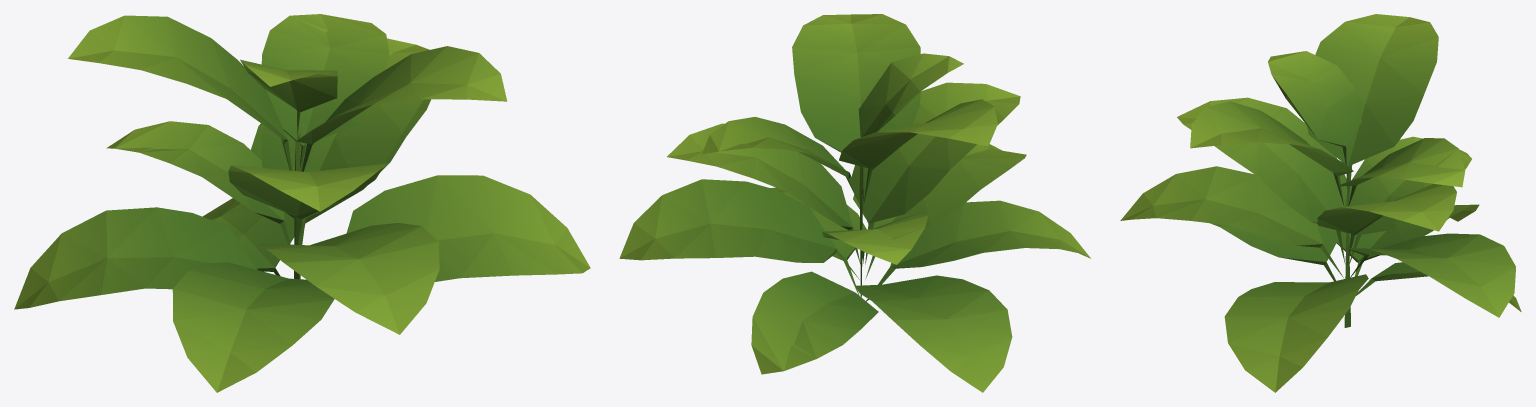
File: Plant_02.fbx
The picture shows the model from 3 angles, left to right: view 1: azimuth 30°, elevation 25°; view 2: azimuth 150°, elevation 25°; view 3: azimuth 270°, elevation 25°; orthographic projection. The views are drawn at different scales.
Visible parts, largest first — view 1: Plant_02; view 2: Plant_02; view 3: Plant_02.
Boxes of the visible parts, box(x1,y1,x2,y2) form: Plant_02: box(14, 14, 590, 392); Plant_02: box(619, 14, 1090, 392); Plant_02: box(1120, 14, 1521, 392).
Bounding box in the file's own units: 1.06 × 0.6634 × 0.9812.
